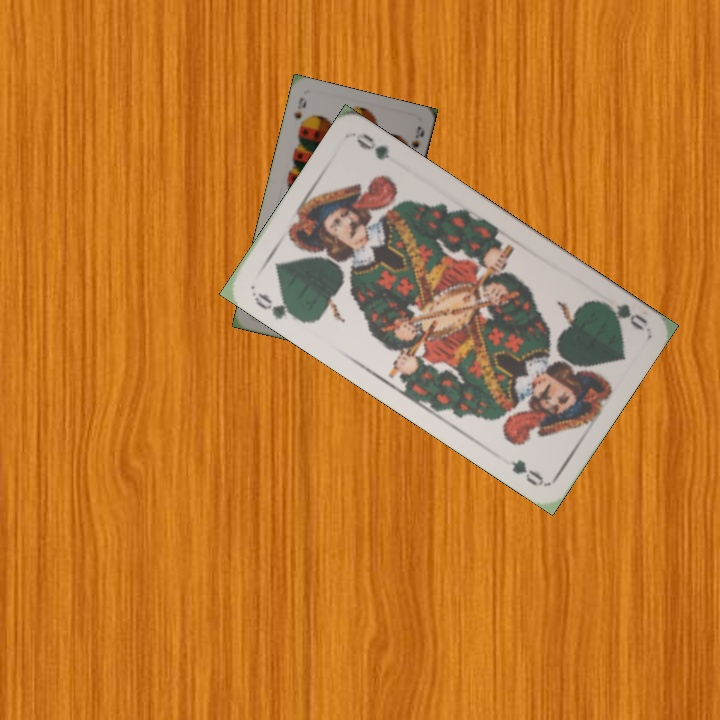GO: (592, 296, 649, 333), (249, 288, 303, 324)
S9: (290, 93, 309, 121)
